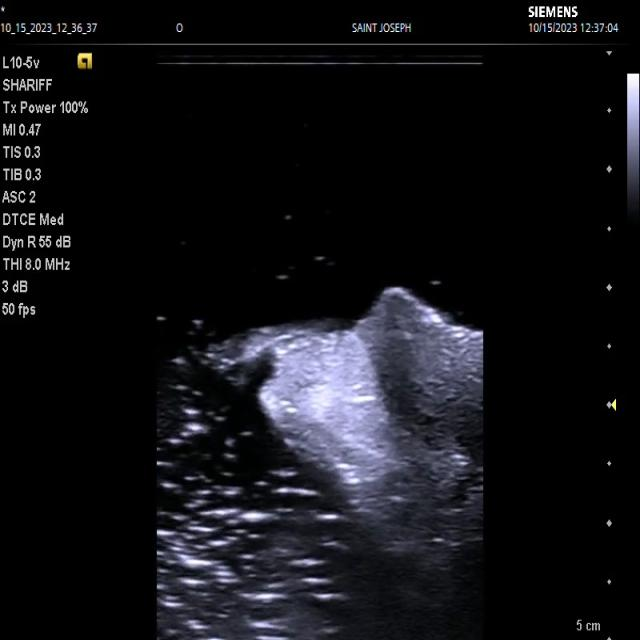tissue: (204, 288, 484, 599)
